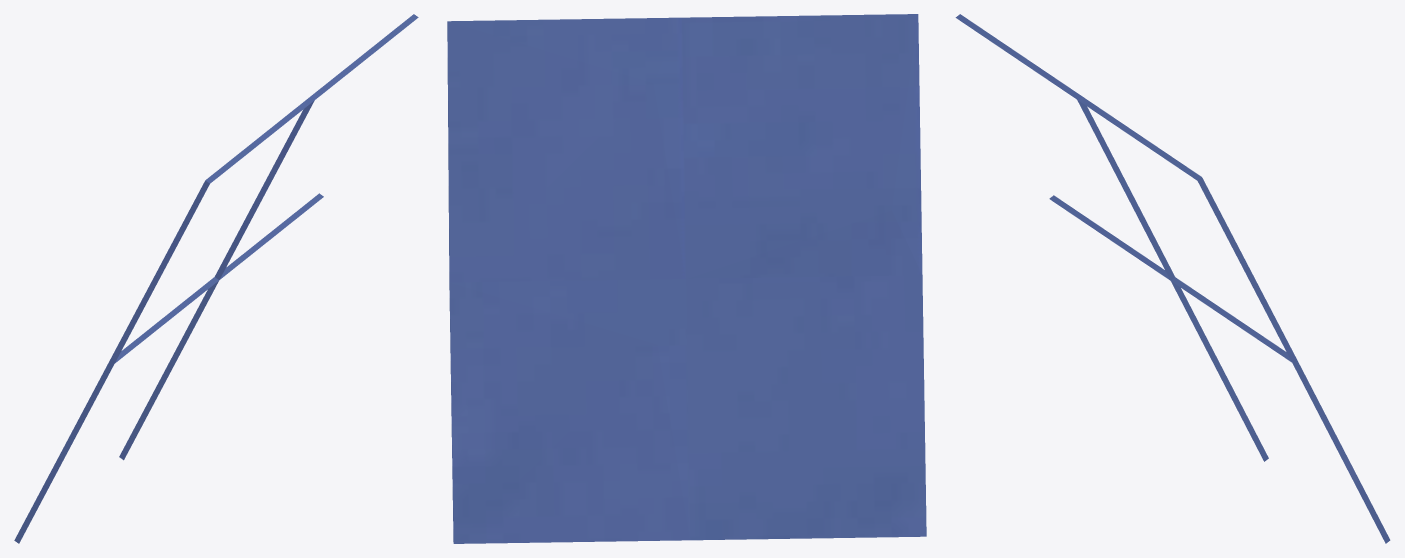
3 views of the same model, side by side, from view 1: azimuth 30°, elevation 25°; view 2: azimuth 150°, elevation 25°; view 3: azimuth 270°, elevation 25° (orthographic). The views are drawn at different scales.
Size of the model in its own units: 19639 by 17737 by 16872.
Materials: 1 (1 with a texture image).
